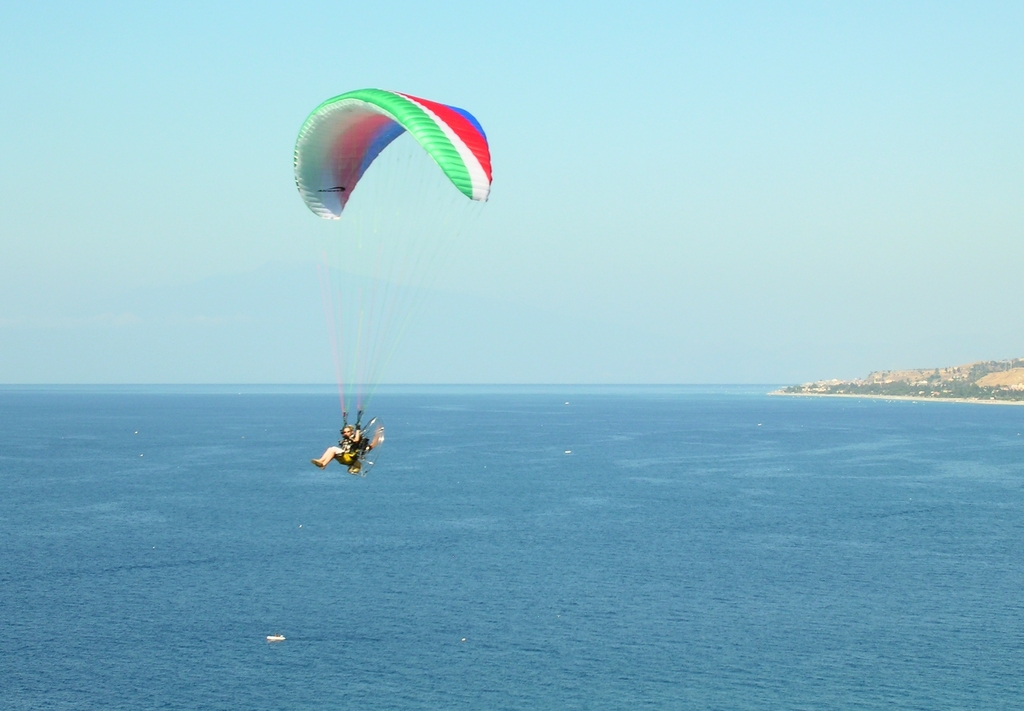person: (308, 418, 379, 472)
